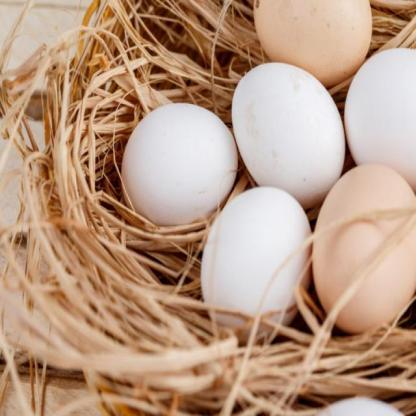egg: (310, 154, 416, 348), (224, 52, 350, 208), (192, 182, 310, 336), (116, 102, 244, 238), (234, 0, 385, 91), (340, 28, 416, 197), (310, 380, 410, 416)
